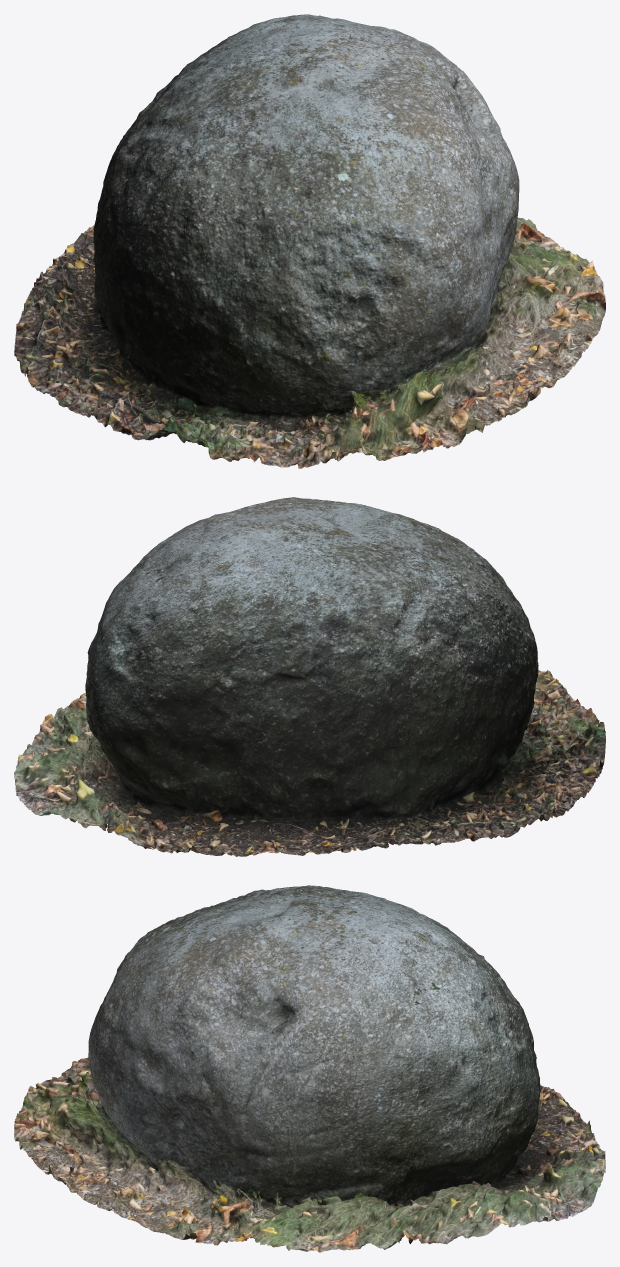
3 renders of one model, top to bottom at view 1: azimuth 30°, elevation 25°; view 2: azimuth 150°, elevation 25°; view 3: azimuth 270°, elevation 25°, orthographic. The views are drawn at different scales.
Parts seen in each view (by area): view 1: big_boulder; view 2: big_boulder; view 3: big_boulder.
Boxes of the visible parts, x1,y1,x2,y2 form: big_boulder: (14, 14, 605, 468); big_boulder: (14, 497, 605, 856); big_boulder: (14, 885, 605, 1252).
Bounding box in the file's own units: 1.78 × 0.8563 × 1.86.
Materials: 1 (1 with a texture image).
